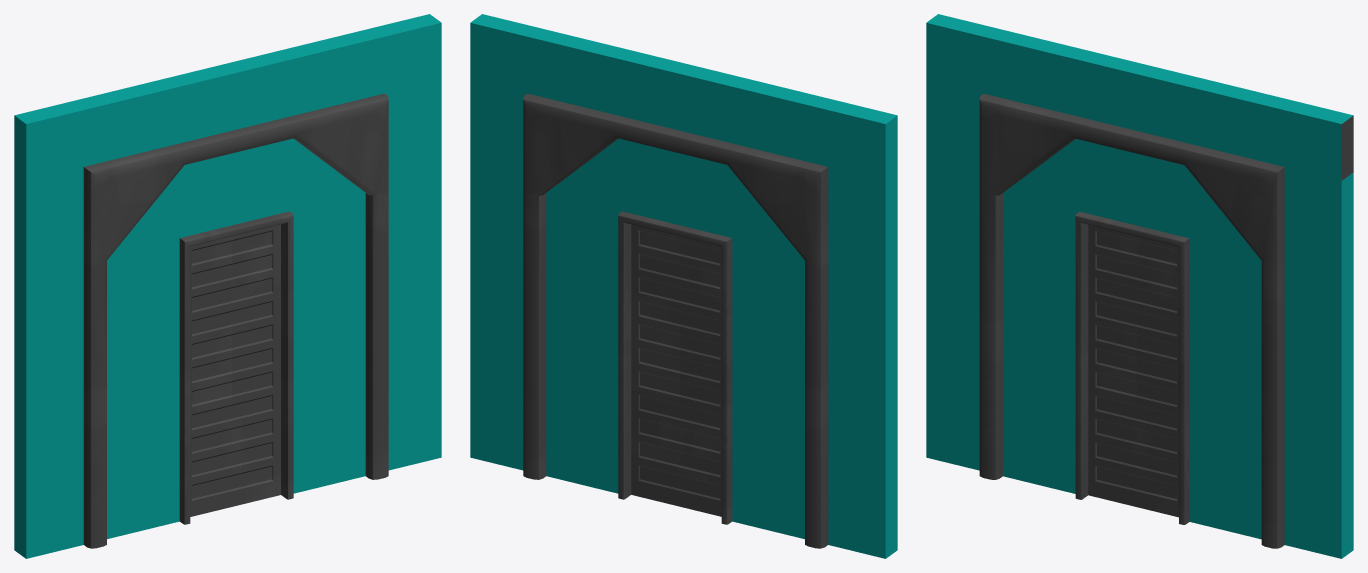
File: EN_W_wallDoor_closed.fbx
3 views of the same model, side by side, from view 1: azimuth 30°, elevation 25°; view 2: azimuth 150°, elevation 25°; view 3: azimuth 330°, elevation 25° (orthographic).
Visible parts, largest first — view 1: En_W_wallDoor_closed; view 2: En_W_wallDoor_closed; view 3: En_W_wallDoor_closed.
Boxes of the visible parts, bbox=[...] form: En_W_wallDoor_closed: bbox=[14, 14, 441, 558]; En_W_wallDoor_closed: bbox=[470, 14, 897, 558]; En_W_wallDoor_closed: bbox=[926, 14, 1353, 558].
Size of the model in its own units: 400 by 400 by 41.96.
